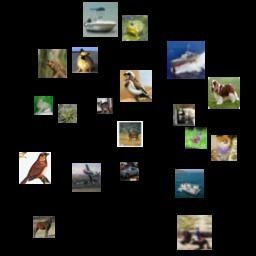airplane: (72, 163, 101, 192)
automobile: (120, 162, 139, 181)
bird: (19, 152, 51, 184), (120, 70, 152, 102), (185, 127, 207, 149)
cat: (34, 96, 53, 115), (97, 98, 113, 114)
deer: (117, 121, 143, 147)
dog: (208, 77, 240, 109), (211, 135, 237, 161), (72, 47, 98, 73)
frog: (38, 49, 67, 78), (122, 15, 148, 41), (58, 104, 77, 123)
ship: (167, 41, 205, 79), (83, 2, 118, 37), (175, 169, 204, 198)
